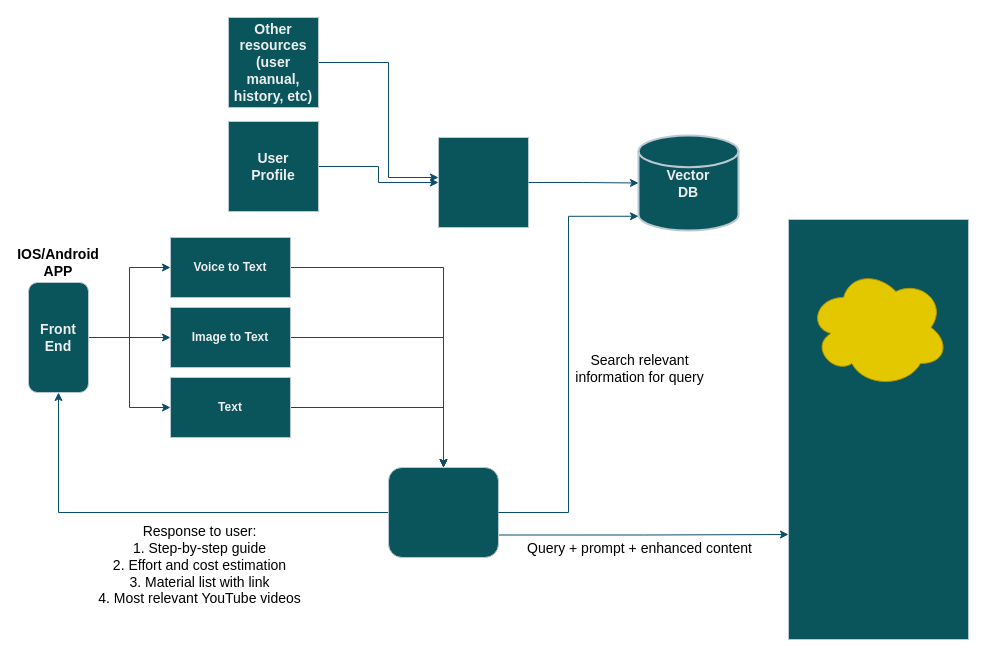
The diagram is 986 pixels wide and 657 high, and some of its shapes have lost their labels. Each missing label, with the centre of its shape:
Embeddings: the point at 483,182
LLM: the point at 878,327
MyHandyAI Back End: the point at 443,512
